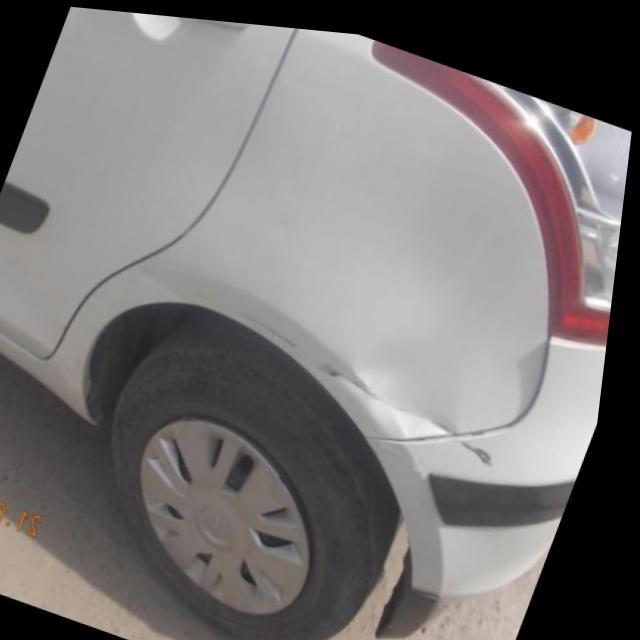crack: (325, 355, 506, 459), (151, 263, 305, 338)
dent: (348, 327, 483, 466)
